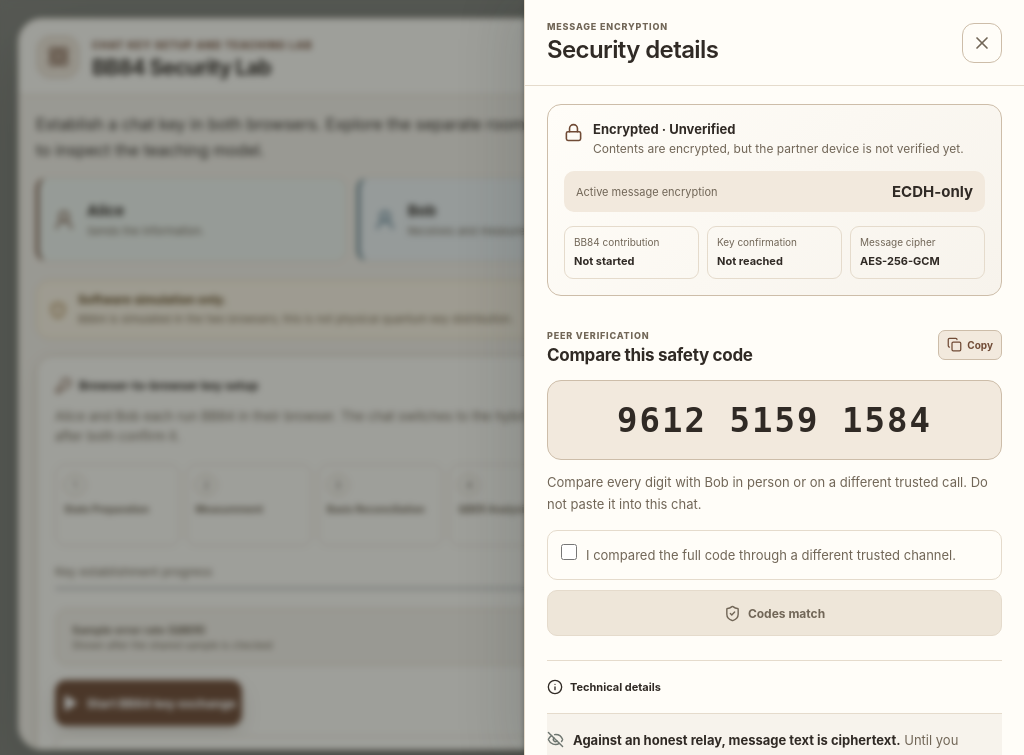
Test: rendered Security Details and BB84 Lab follow the live chat encryption context › renders the actual ECDH mode, then hybrid activation and ECDH fallback from a two-endpoint BB84 run
Later steps or results of the test are not shown.
Click the heading "Technical details" at (604, 687), box [547,679,661,695]
(page scrolled)
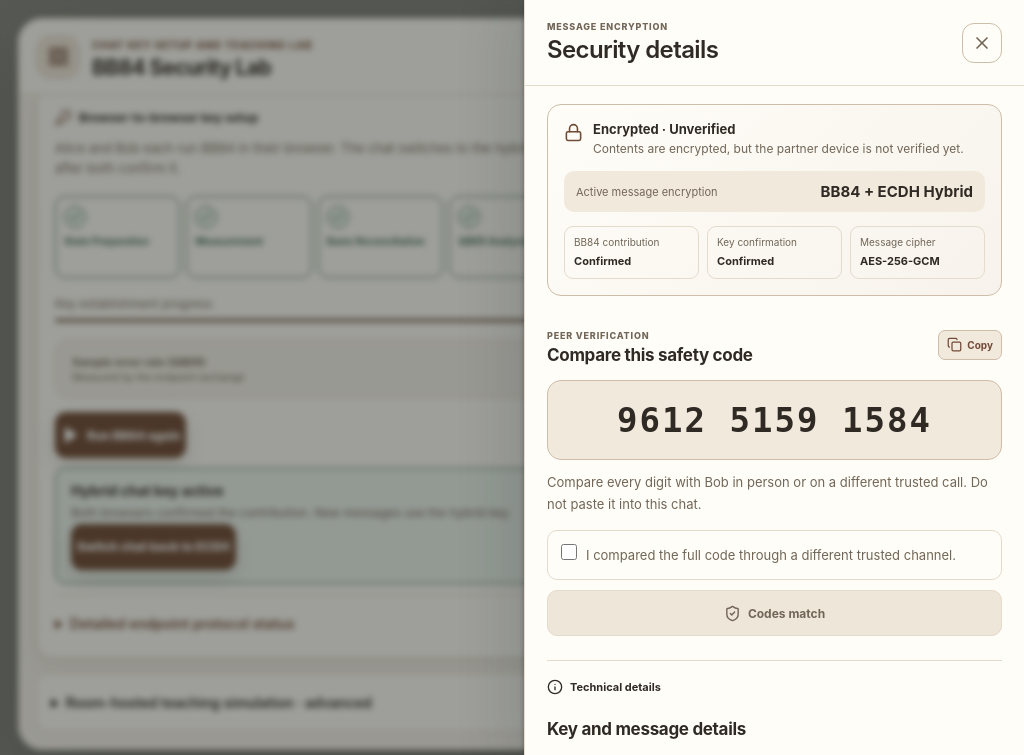
Check: the text "Hybrid key active" is shown, box [864,106,969,130]
Check: the text "Hybrid chat key active" is shown, box [71,482,224,499]
Check: the number of list items is 7
